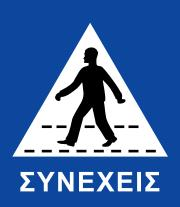Pedestrian Crossing: (15, 20, 177, 197)
